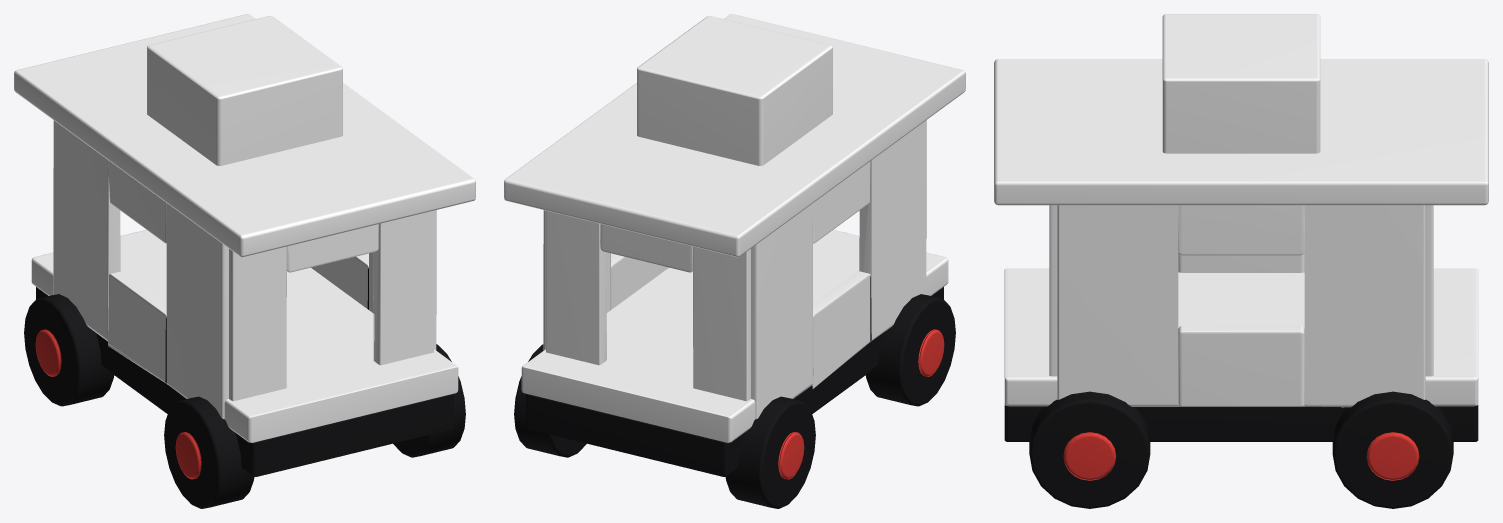
The model's file is caboose.glb.
The picture shows the model from 3 angles, left to right: view 1: azimuth 30°, elevation 25°; view 2: azimuth 150°, elevation 25°; view 3: azimuth 270°, elevation 25°; orthographic projection. The views are drawn at different scales.
Parts seen in each view (by area): view 1: caboose.001; view 2: caboose.001; view 3: caboose.001.
Boxes of the visible parts, bbox=[...] form: caboose.001: bbox=[14, 14, 475, 508]; caboose.001: bbox=[504, 14, 965, 508]; caboose.001: bbox=[994, 14, 1488, 508].
Bounding box in the file's own units: 6.1 × 8.35 × 9.4.
